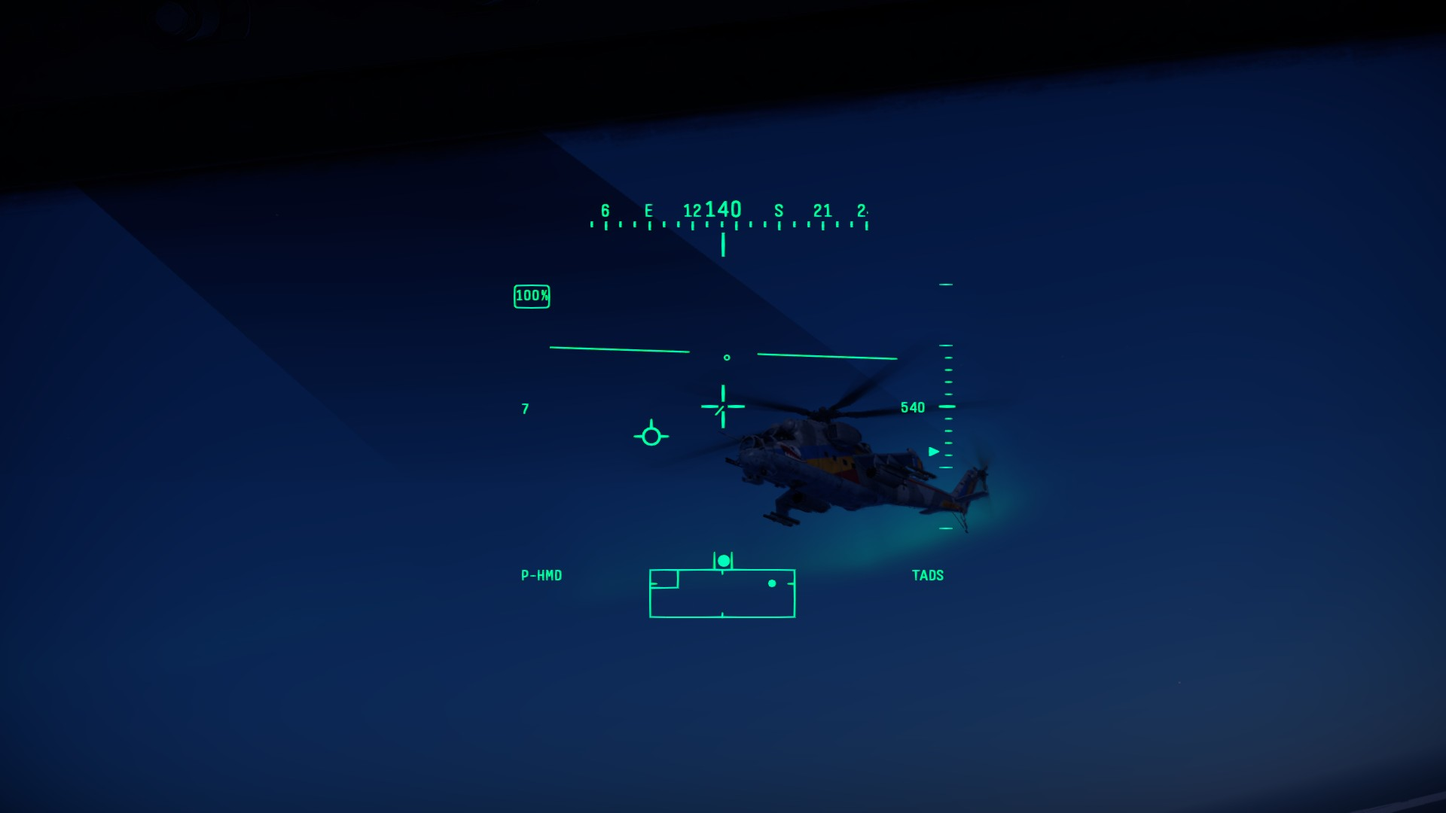mi24: (714, 404, 992, 547)
